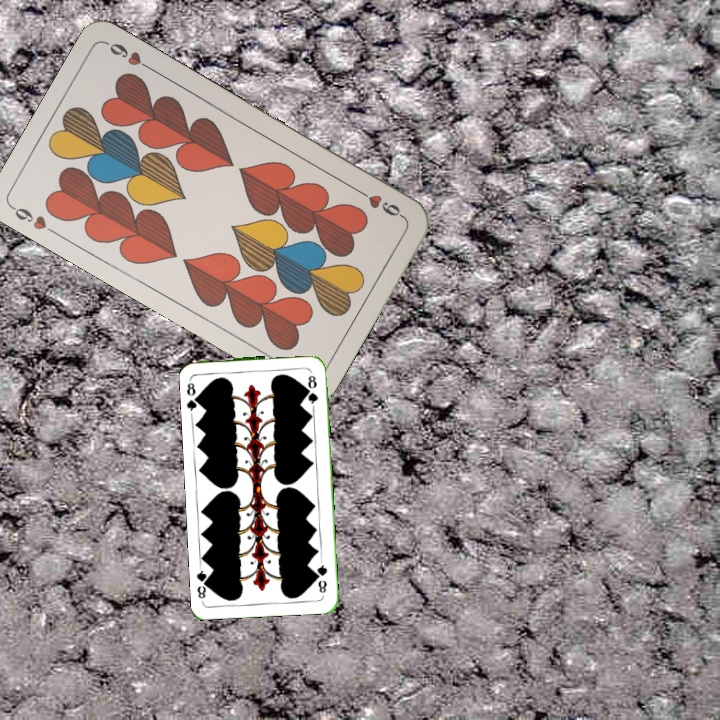G8: (183, 375, 203, 415), (313, 557, 329, 596)
H9: (8, 202, 61, 239), (353, 185, 407, 221)
